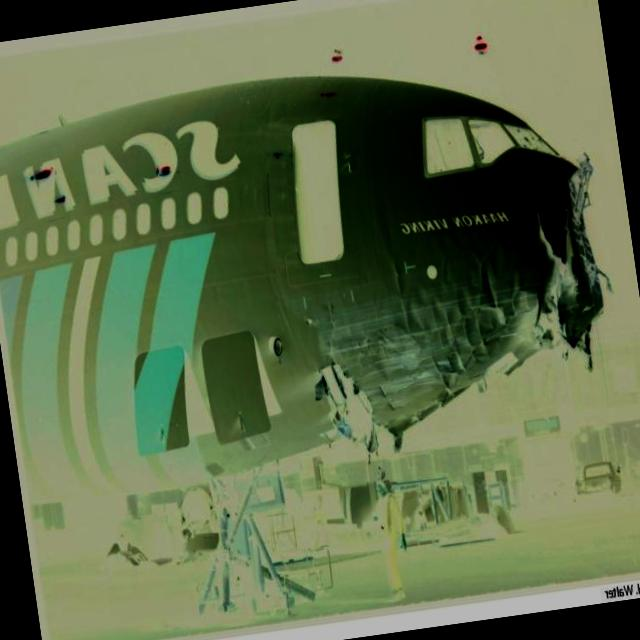dent: (338, 231, 542, 418)
